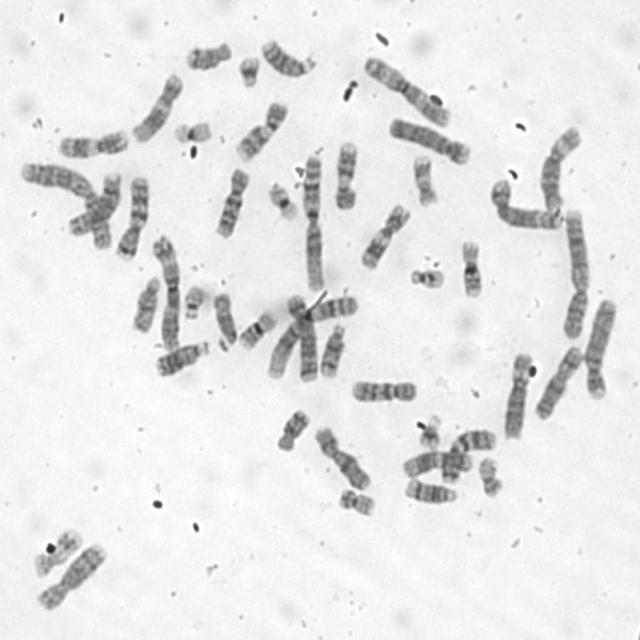A1: (263, 288, 362, 380), (299, 148, 328, 294)
A2: (14, 155, 115, 252), (556, 201, 594, 341)
A3: (359, 49, 454, 129), (148, 229, 185, 351)
B4: (384, 111, 474, 167), (581, 293, 621, 401)
B5: (485, 172, 565, 232), (280, 288, 320, 384)
C10: (210, 161, 252, 241), (347, 374, 419, 404)
C11: (356, 198, 413, 272), (55, 123, 132, 160)
C12: (128, 67, 186, 145), (398, 445, 476, 479)
C6: (535, 119, 586, 212), (500, 346, 536, 442)
C7: (110, 170, 152, 260), (438, 423, 498, 485)
C8: (32, 535, 111, 613), (61, 165, 124, 238)
C9: (230, 95, 292, 163), (330, 135, 361, 211)
D13: (256, 33, 320, 78), (150, 334, 212, 378)
D14: (400, 472, 459, 506), (316, 318, 348, 380)
D15: (128, 270, 163, 334), (209, 287, 239, 352)
E16: (234, 303, 279, 352), (456, 233, 487, 299)
E17: (26, 520, 86, 580), (409, 148, 441, 208)
E18: (271, 402, 312, 454), (181, 36, 234, 72)
F19: (264, 176, 302, 221), (169, 115, 215, 145)
F20: (334, 482, 378, 518), (475, 451, 505, 500)
G21: (414, 408, 444, 451), (234, 50, 263, 90)
G22: (179, 278, 211, 321), (404, 262, 448, 290)
X: (310, 420, 375, 492), (530, 339, 586, 422)
